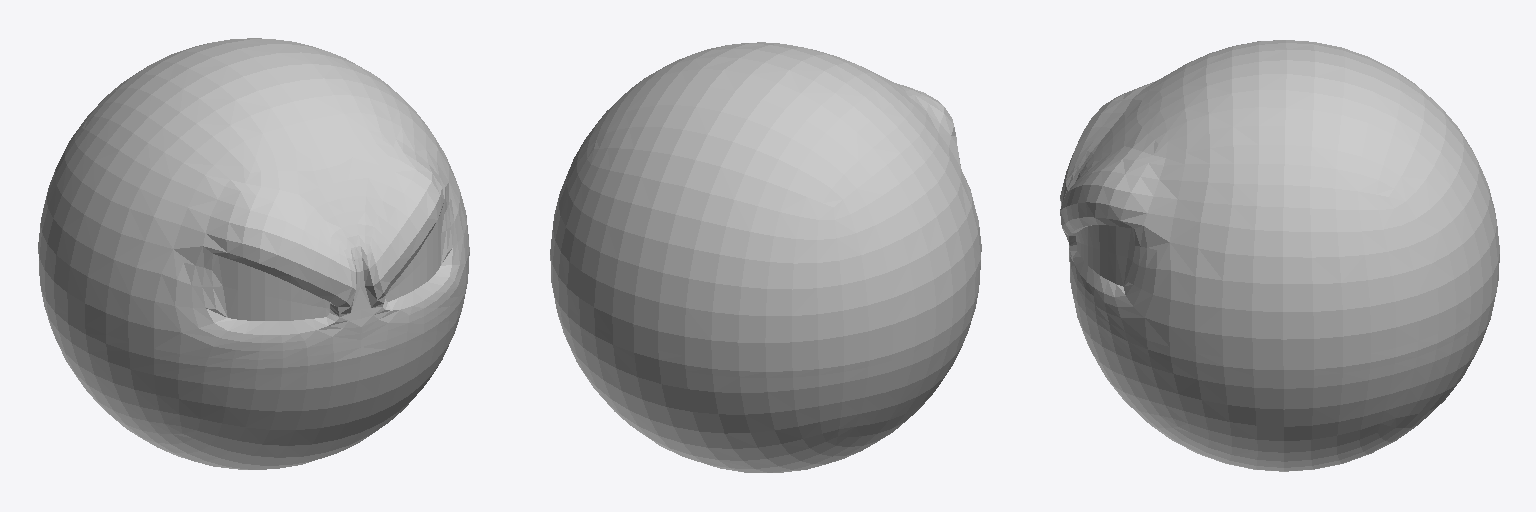
The model's file is voltorb.obj.
The picture shows the model from 3 angles: view 1: azimuth 30°, elevation 25°; view 2: azimuth 150°, elevation 25°; view 3: azimuth 270°, elevation 25°; orthographic projection.
Parts seen in each view (by area): view 1: Object_0, Object_1; view 2: Object_0; view 3: Object_0, Object_1.
Boxes of the visible parts, x1,y1,x2,y2 form: Object_0: [38, 38, 469, 469]; Object_1: [192, 187, 459, 342]; Object_0: [550, 42, 981, 472]; Object_0: [1060, 40, 1499, 471]; Object_1: [1062, 217, 1146, 306].
Bounding box in the file's own units: 0.4992 × 0.4994 × 0.5086.